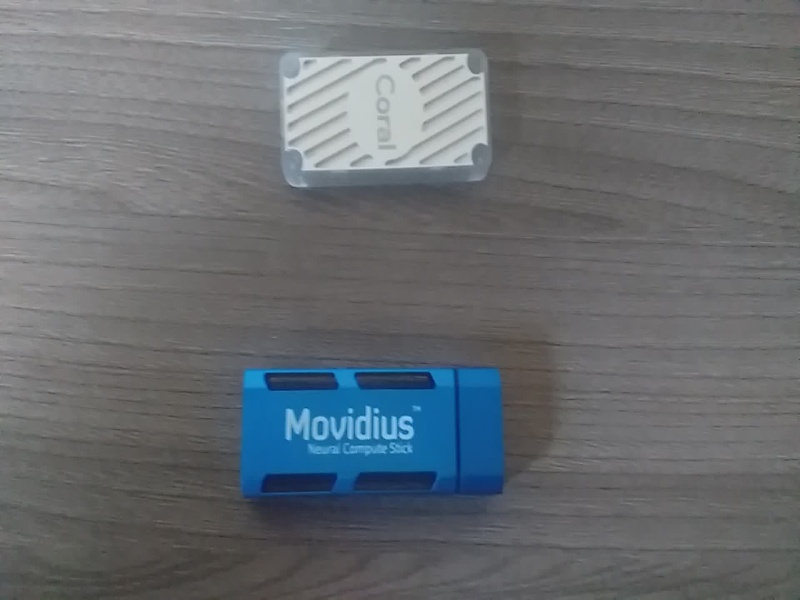coral: (266, 40, 502, 208)
movidius: (230, 361, 519, 506)
